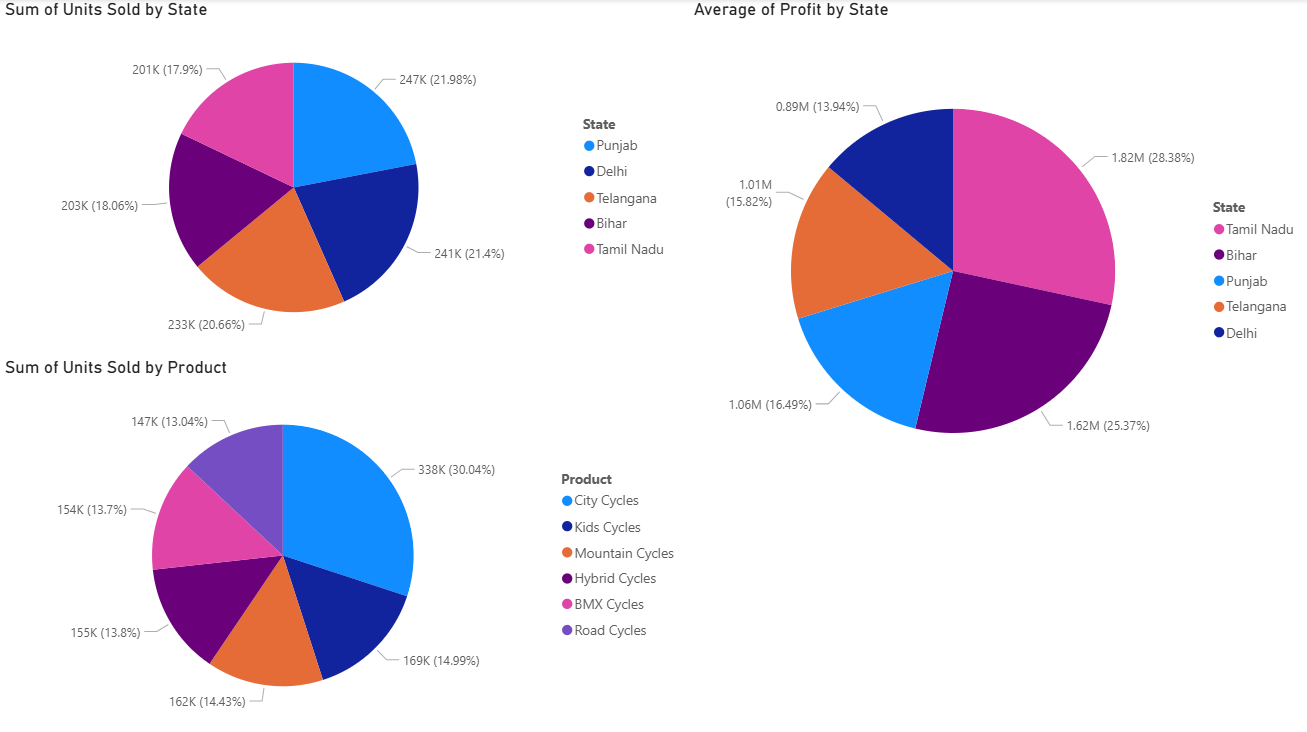

The page's visual inventory and layout, read from the dashboard file:
{"tool":"powerbi","page":{"name":"Pie Charts","canvas":[1280,720],"ordinal":1},"visuals":[{"type":"pieChart","fields":{"Category":["Bicycle Sales.State"],"Y":["Sum(Bicycle Sales.Units Sold)"]},"box":[0,0,664.2,349.9],"z":0},{"type":"pieChart","fields":{"Category":["Bicycle Sales.Product"],"Y":["Sum(Bicycle Sales.Units Sold)"]},"box":[0,349.9,673.8,370.5],"z":1},{"type":"pieChart","fields":{"Category":["Bicycle Sales.State"],"Y":["Avg(Bicycle Sales.Profit)"]},"box":[673.8,0,606.5,513.2],"z":2}]}

Visuals, with their boxes in screenshot pixels (x1, y1, x2, y2), scaled from the page's 1280x720 canvas onto the 1307x732 screenshot:
pieChart - Bicycle Sales.State x Sum(Bicycle Sales.Units Sold): [x1=0, y1=0, x2=678, y2=356]
pieChart - Bicycle Sales.Product x Sum(Bicycle Sales.Units Sold): [x1=0, y1=356, x2=688, y2=731]
pieChart - Bicycle Sales.State x Avg(Bicycle Sales.Profit): [x1=688, y1=0, x2=1306, y2=522]
